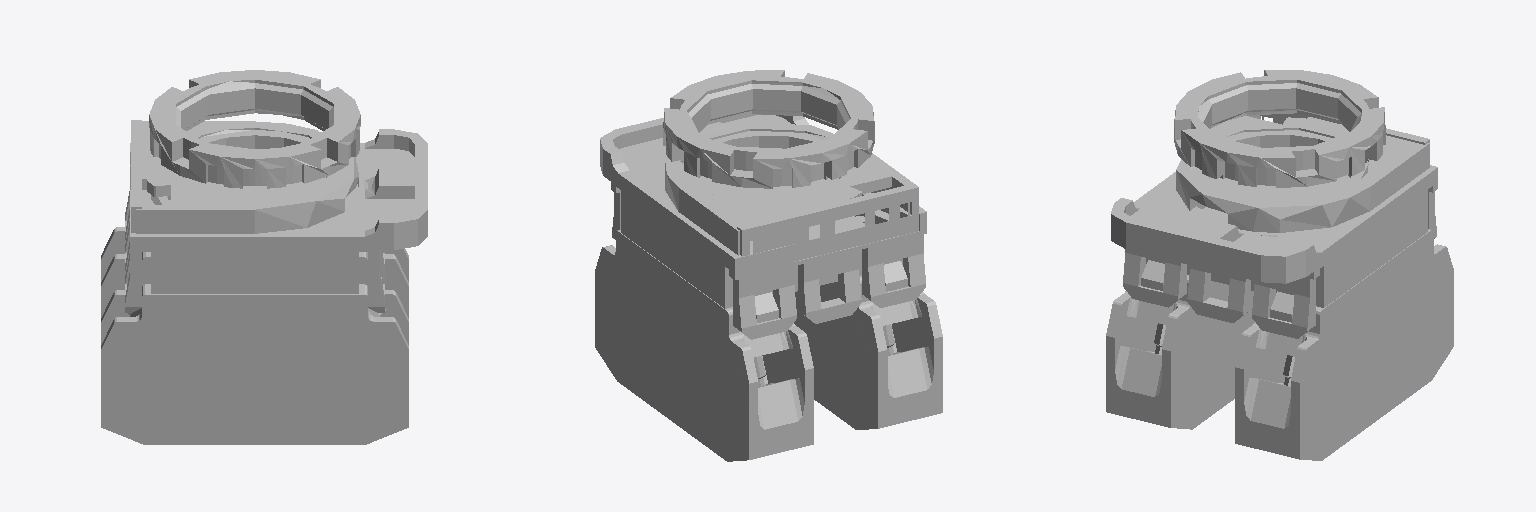
File: platform_7.obj
The picture shows the model from 3 angles: view 1: azimuth 30°, elevation 25°; view 2: azimuth 150°, elevation 25°; view 3: azimuth 270°, elevation 25°; orthographic projection.
Bounding box in the file's own units: 0.0512 × 0.042 × 0.0467.